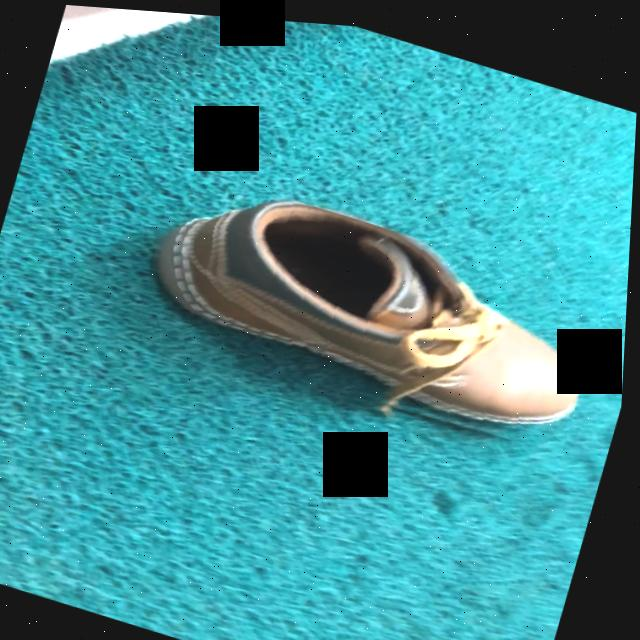shoe: (157, 198, 584, 421)
